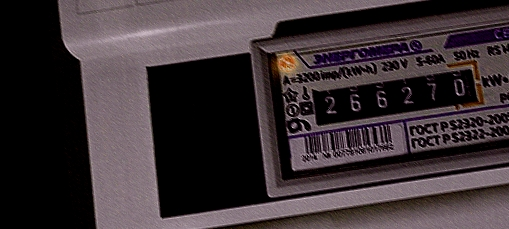0: (451, 76, 466, 97)
2: (321, 94, 339, 116), (399, 84, 415, 105)
6: (347, 91, 363, 113), (374, 88, 389, 110)
7: (424, 80, 439, 101)
screen: (301, 56, 490, 133)
